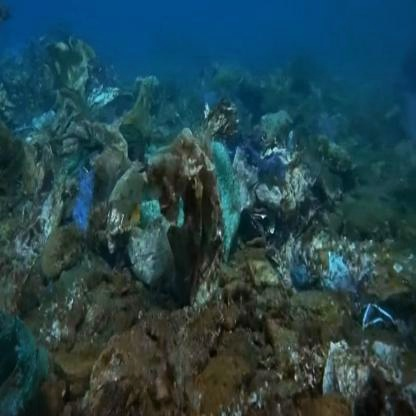plastic: (89, 127, 256, 273)
